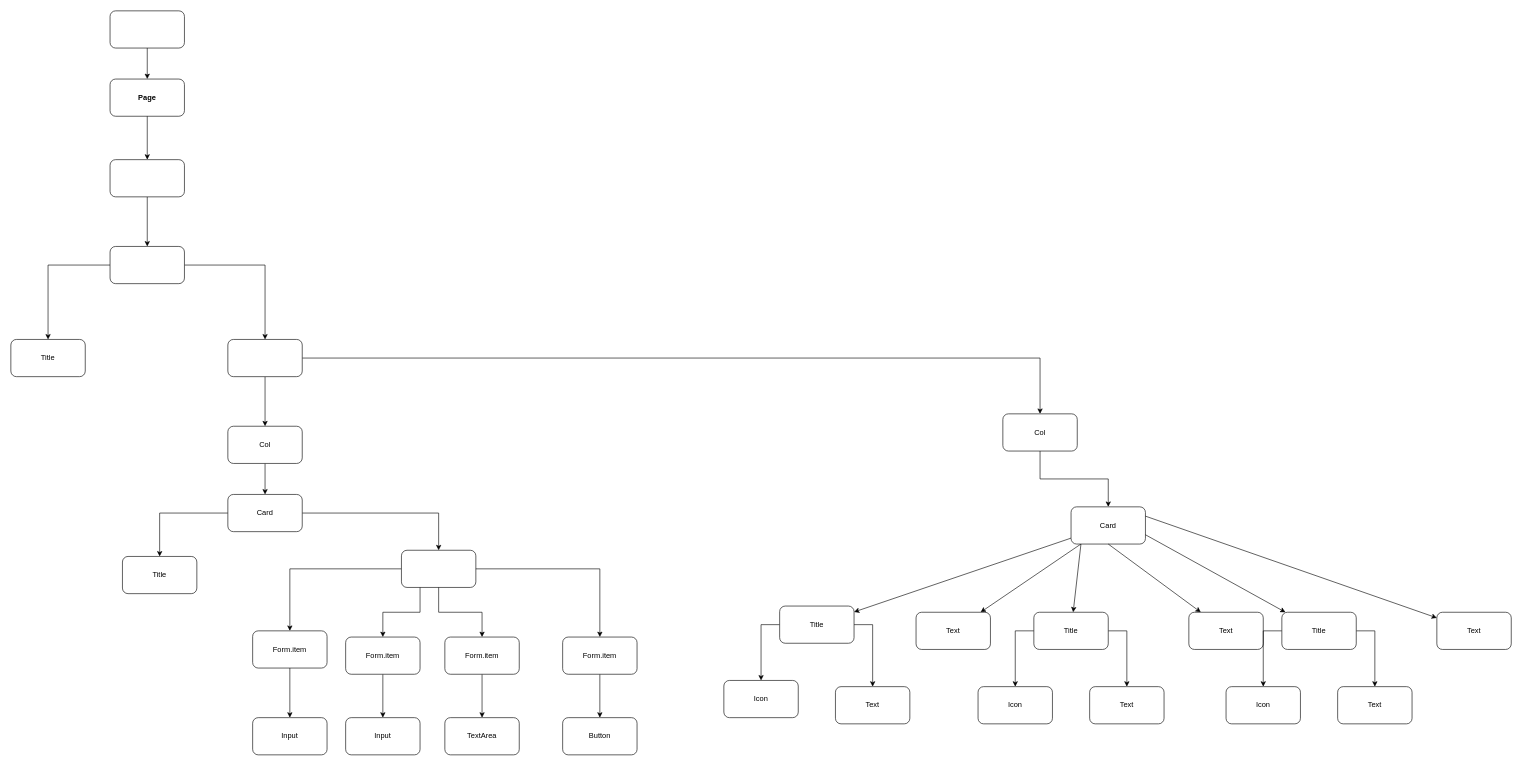
The diagram is 1522 pixels wide and 766 high, and some of its shapes have lost their labels. The centre of each missing label's shape, as x and y in pixels:
"ContactUs" goes at point 146,178.
"Content" goes at point 146,265.
"Form" goes at point 438,568.
"Layout" goes at point 146,29.
"Row" goes at point 264,358.
